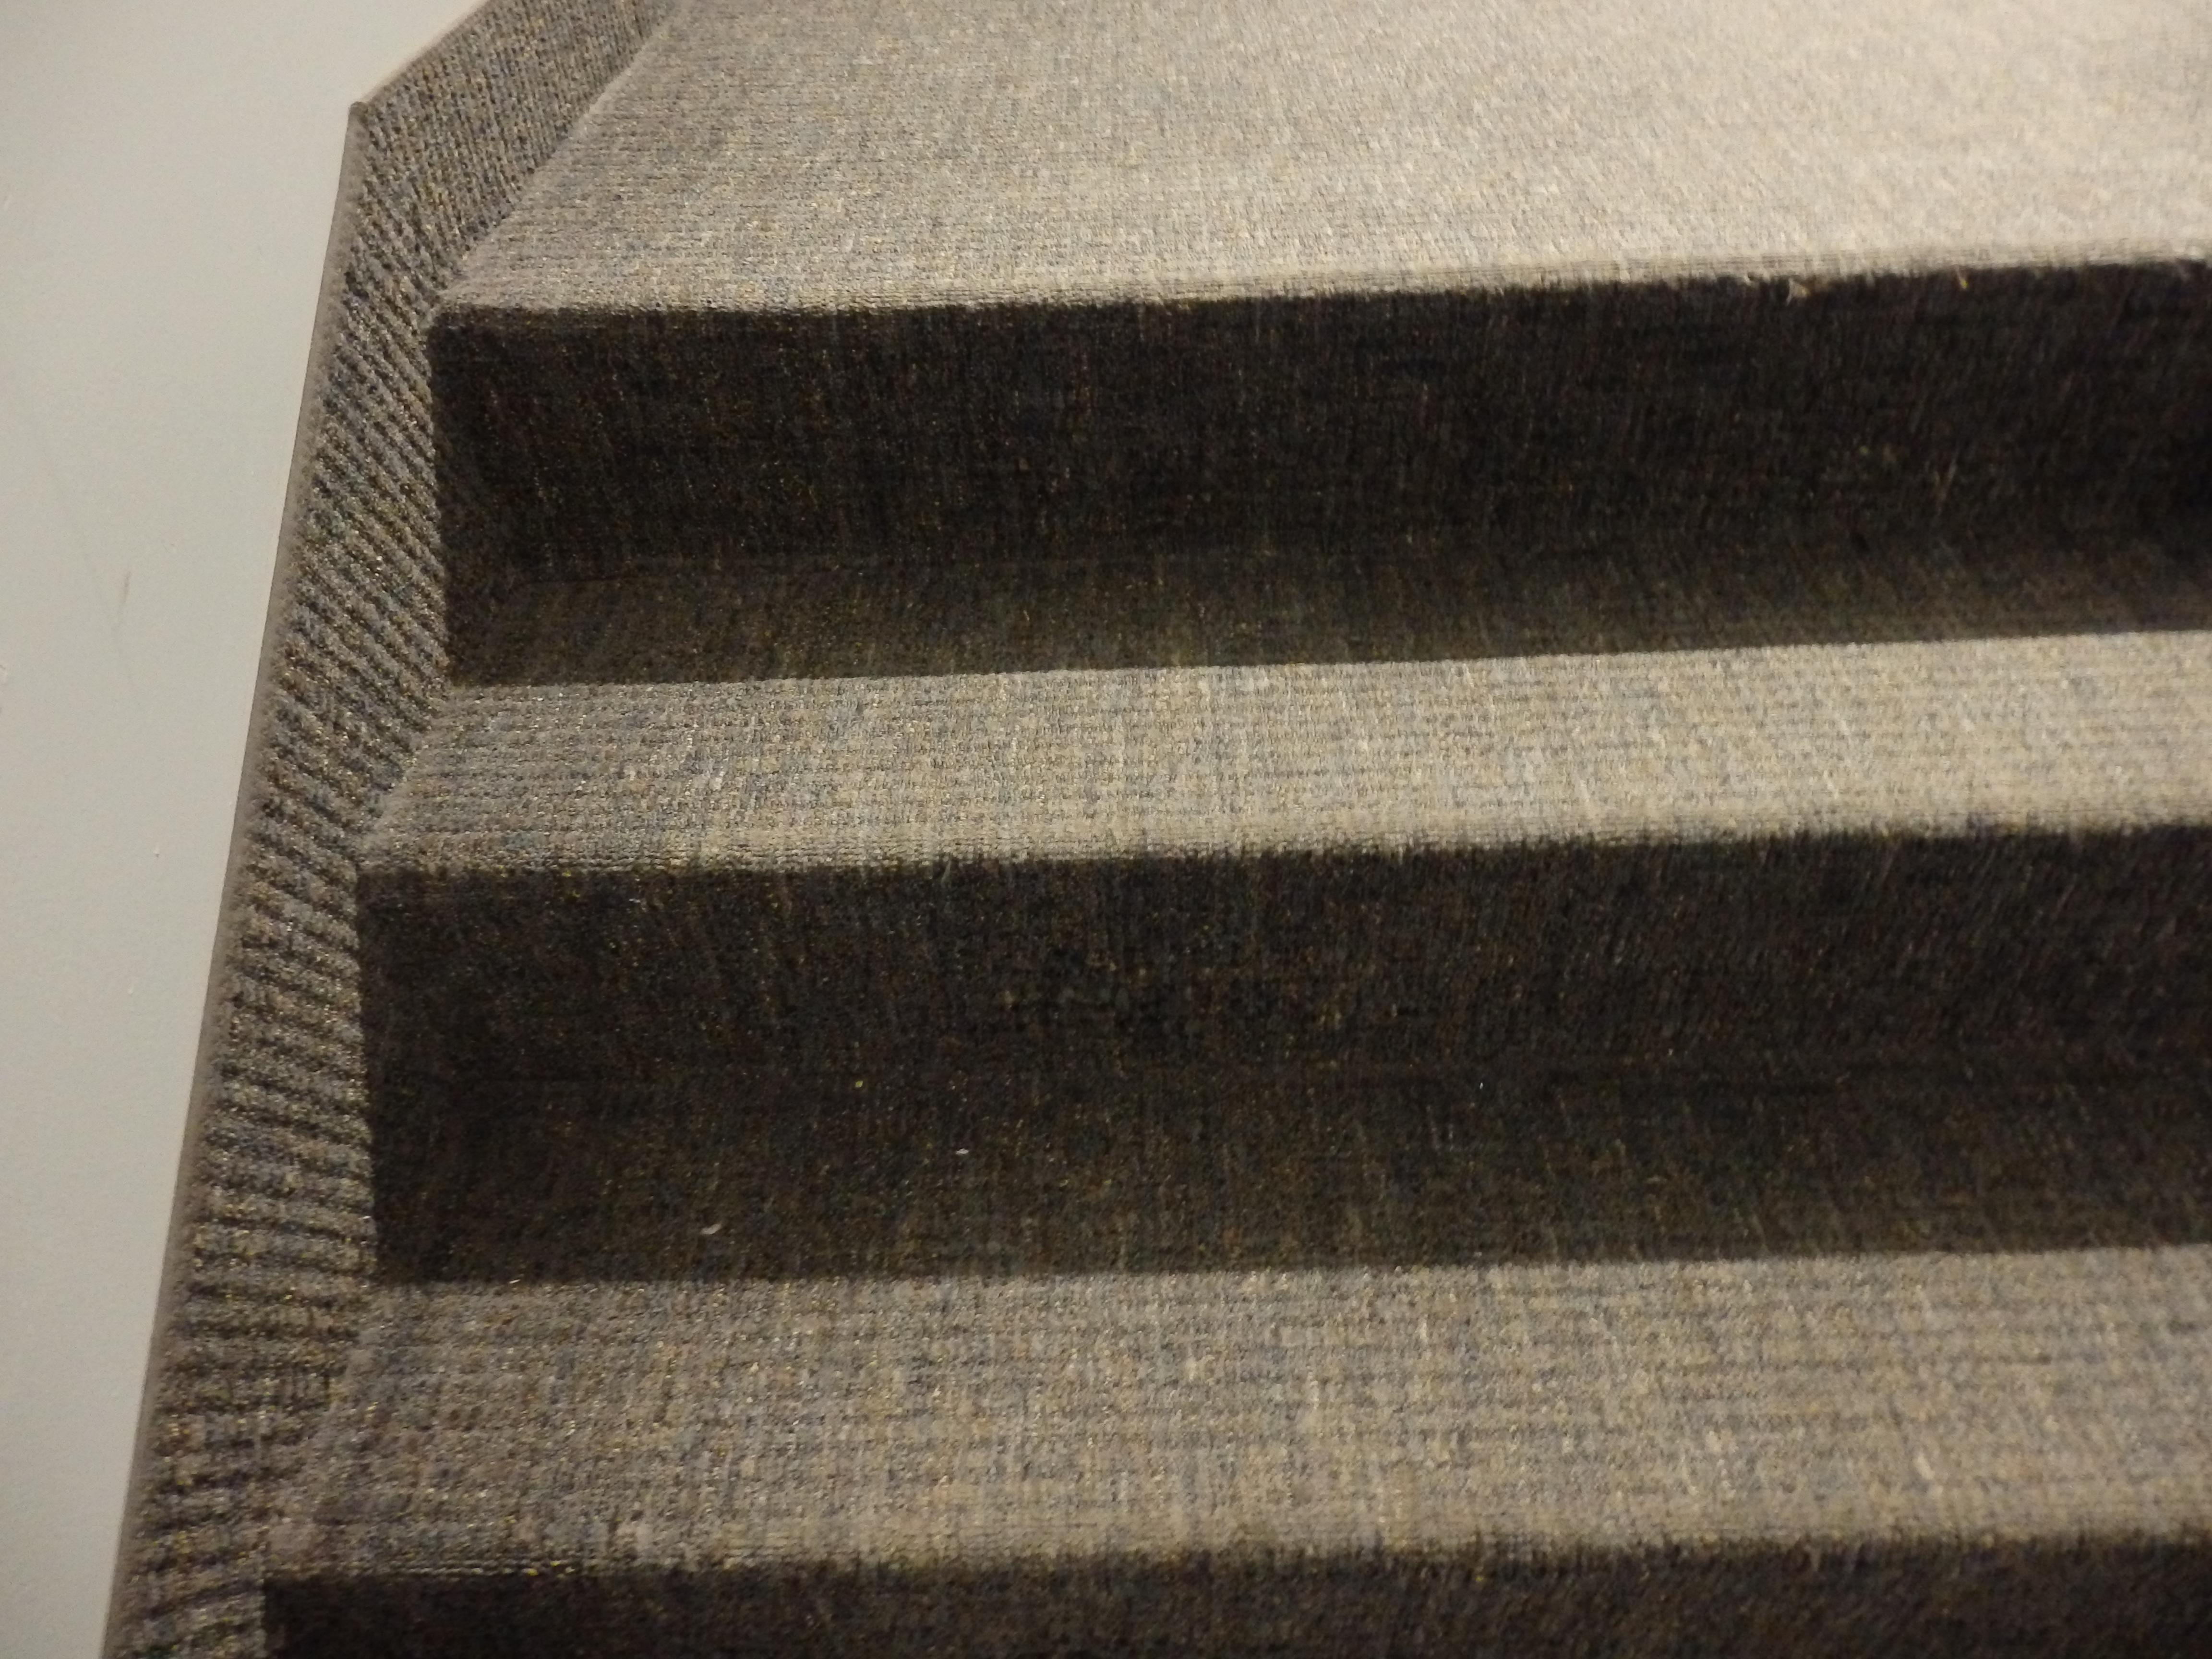stairs_up: (435, 281, 2212, 1659)
